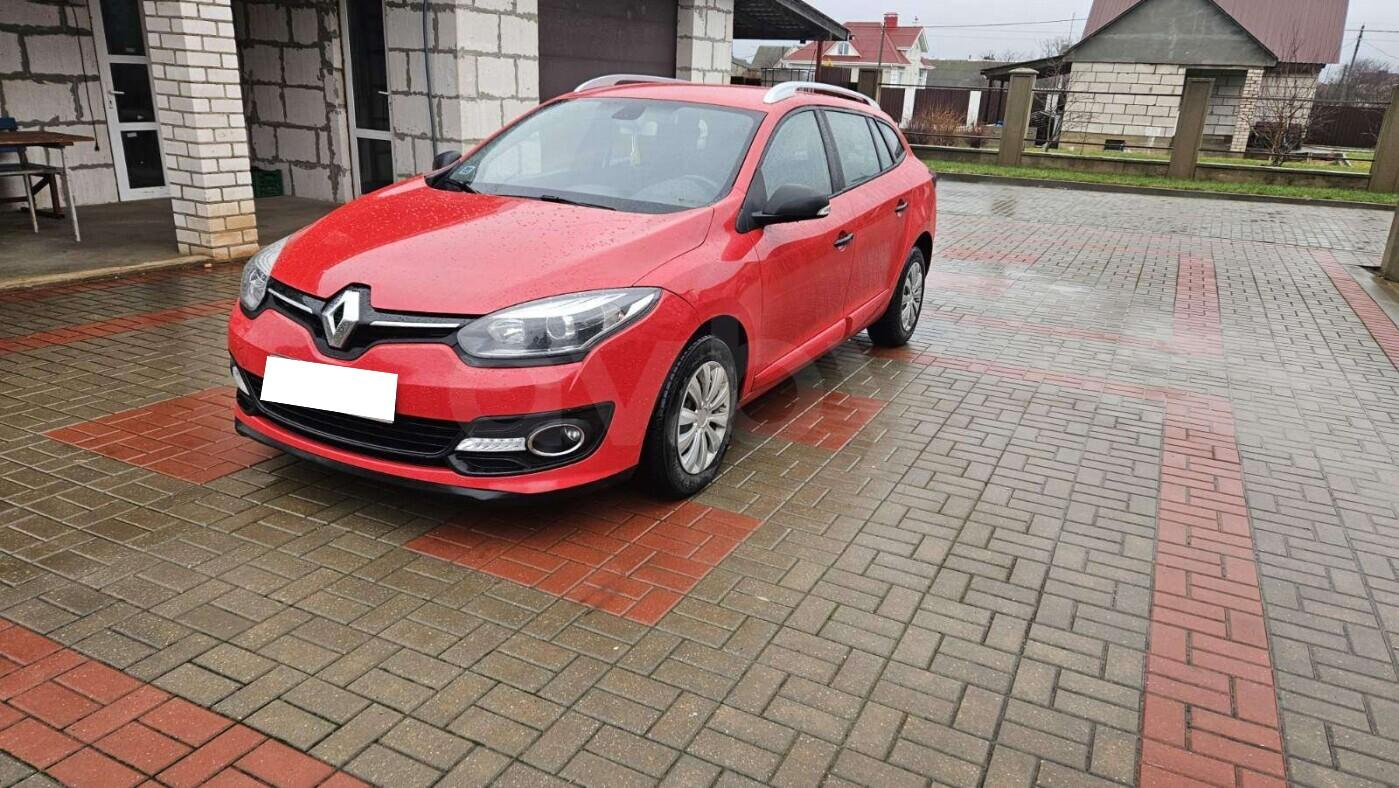Megane_2012-2014: (225, 67, 957, 512)
